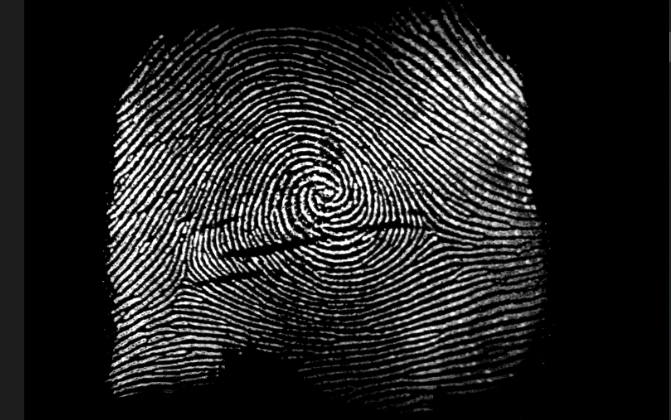nucelo: (301, 177, 345, 212)
verticilo: (415, 218, 445, 247), (170, 260, 197, 290)
